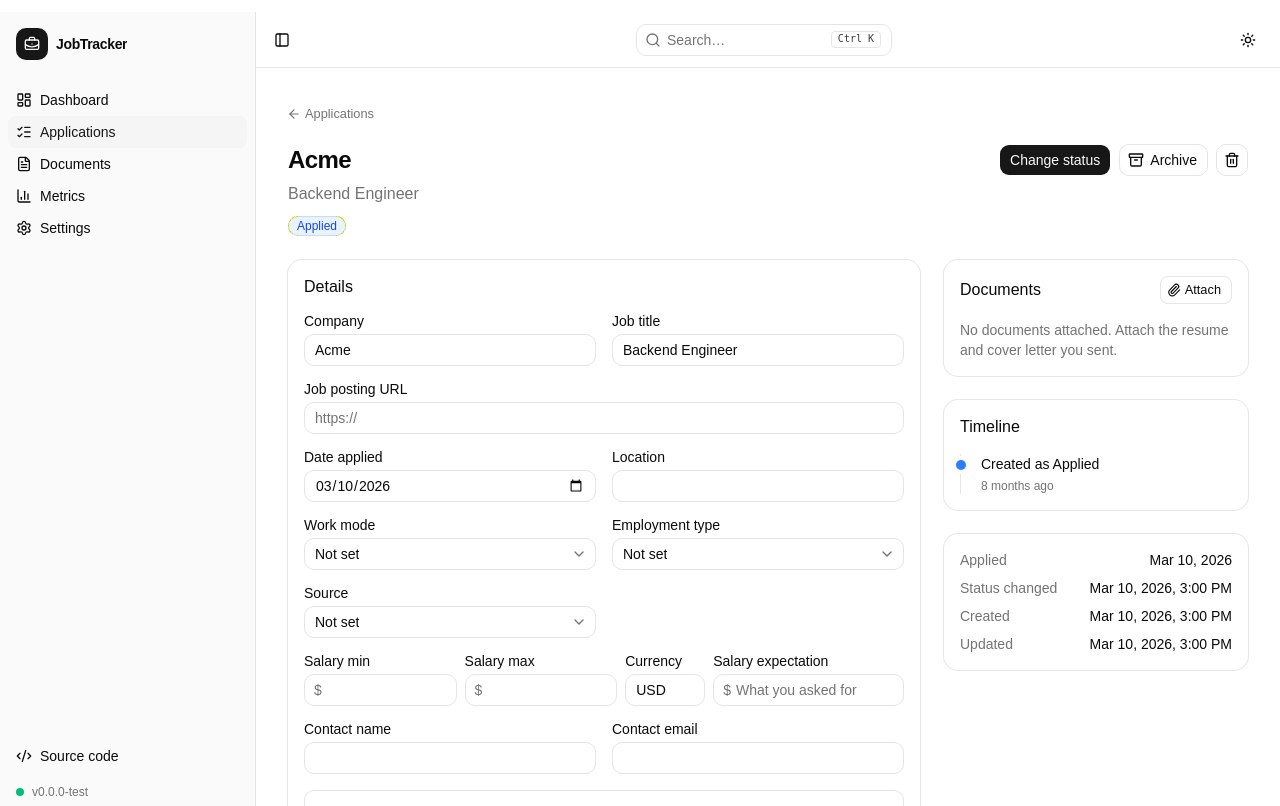
Scenario: Application detail page › editing a field and saving sends a PATCH
Step 1. Type "Chicago, IL" into the field labelled "Location" → [758, 486], box [612, 470, 904, 502]
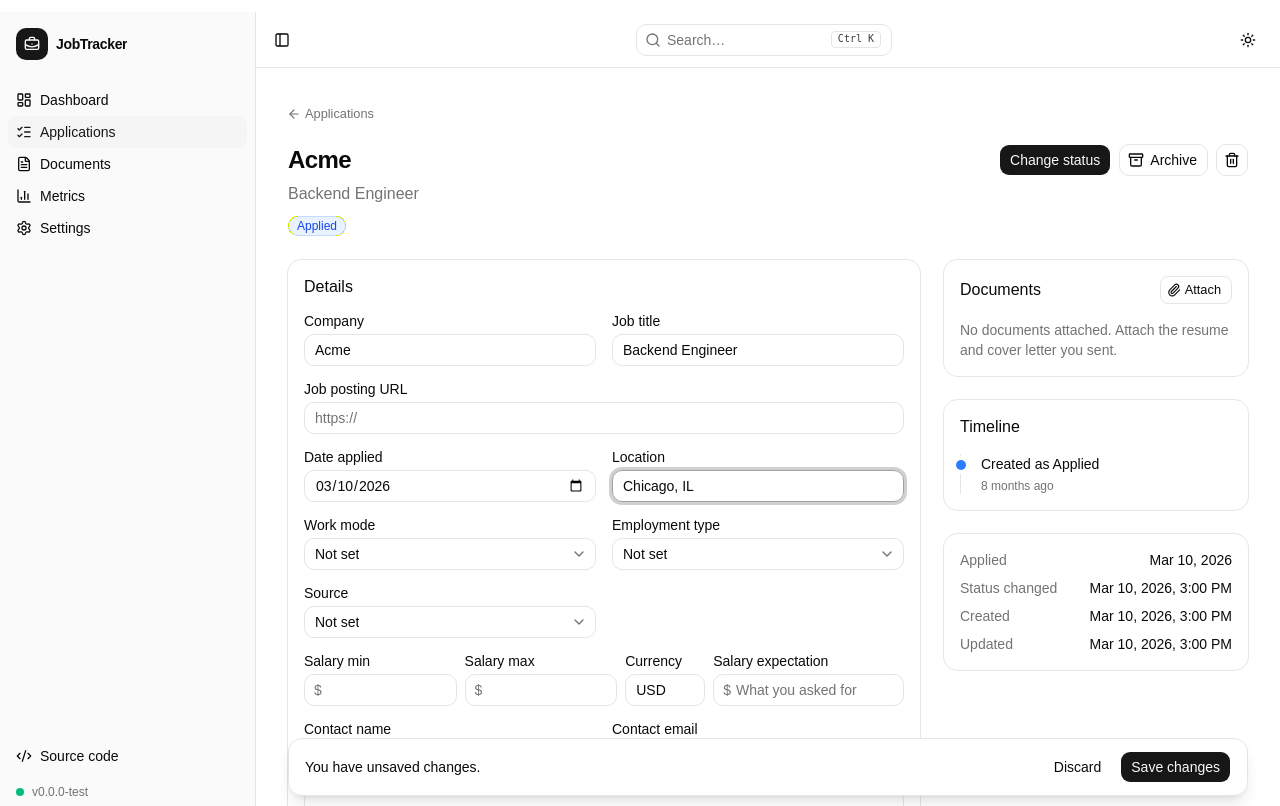
Step 2. Click the button "Save changes" → [1176, 767], box [1120, 751, 1231, 783]
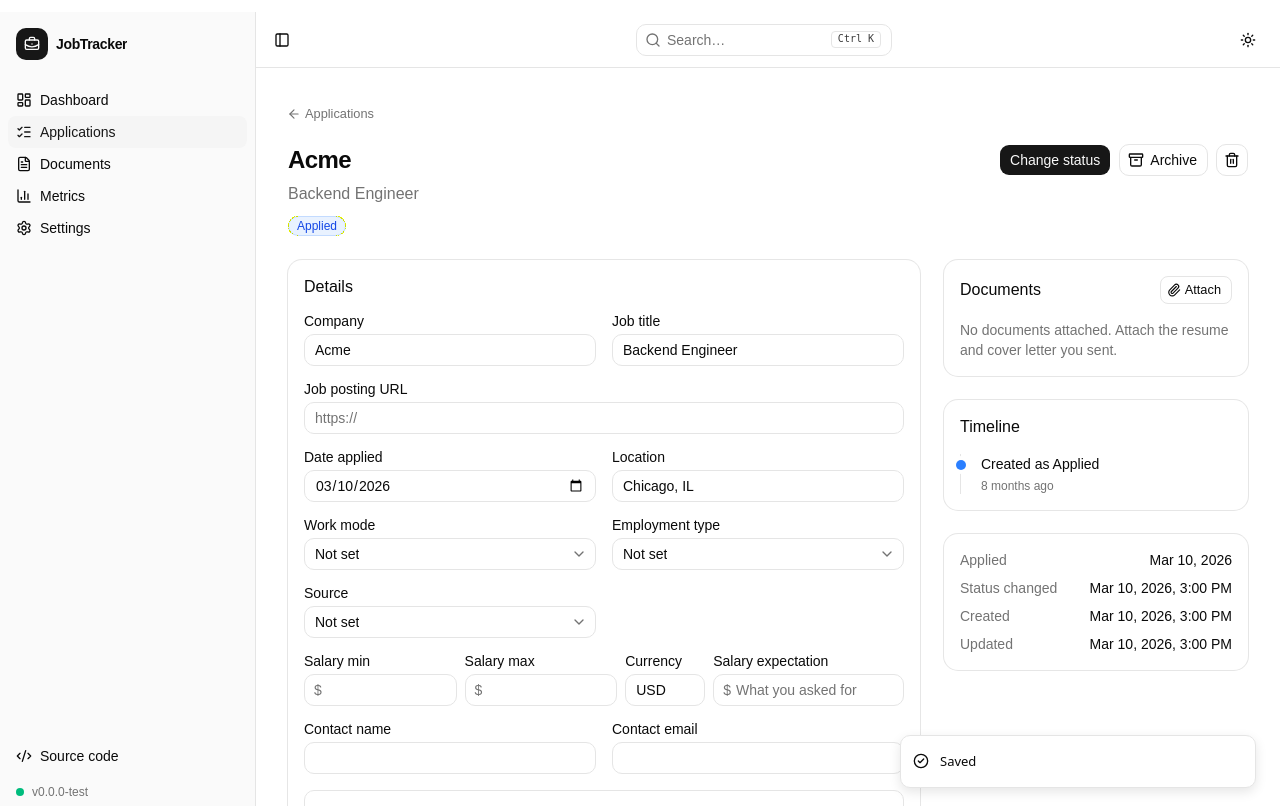
Expected: the button "Save changes" is gone
